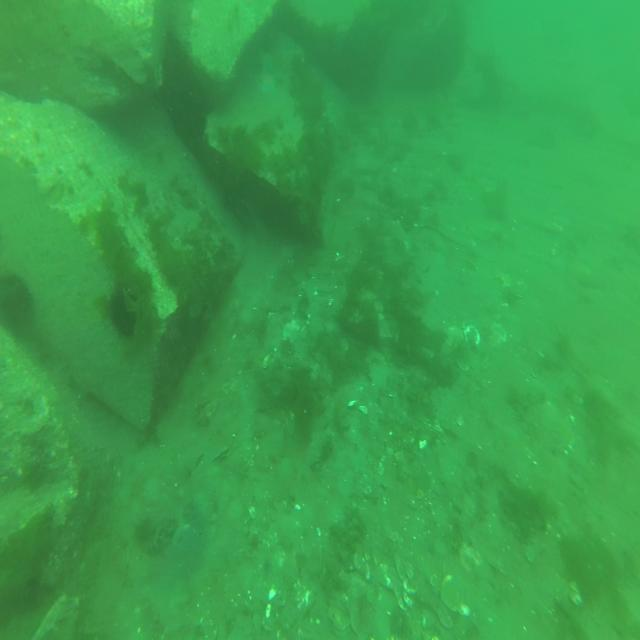echinus: (0, 266, 36, 337), (105, 284, 141, 342)
starfish: (254, 64, 279, 98)
